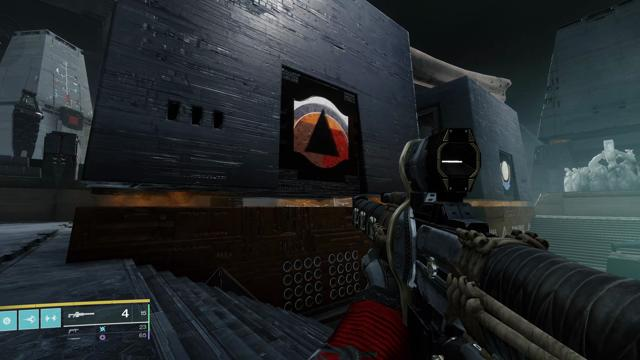pyramid: (293, 96, 350, 168)
traveler: (500, 160, 512, 190)
